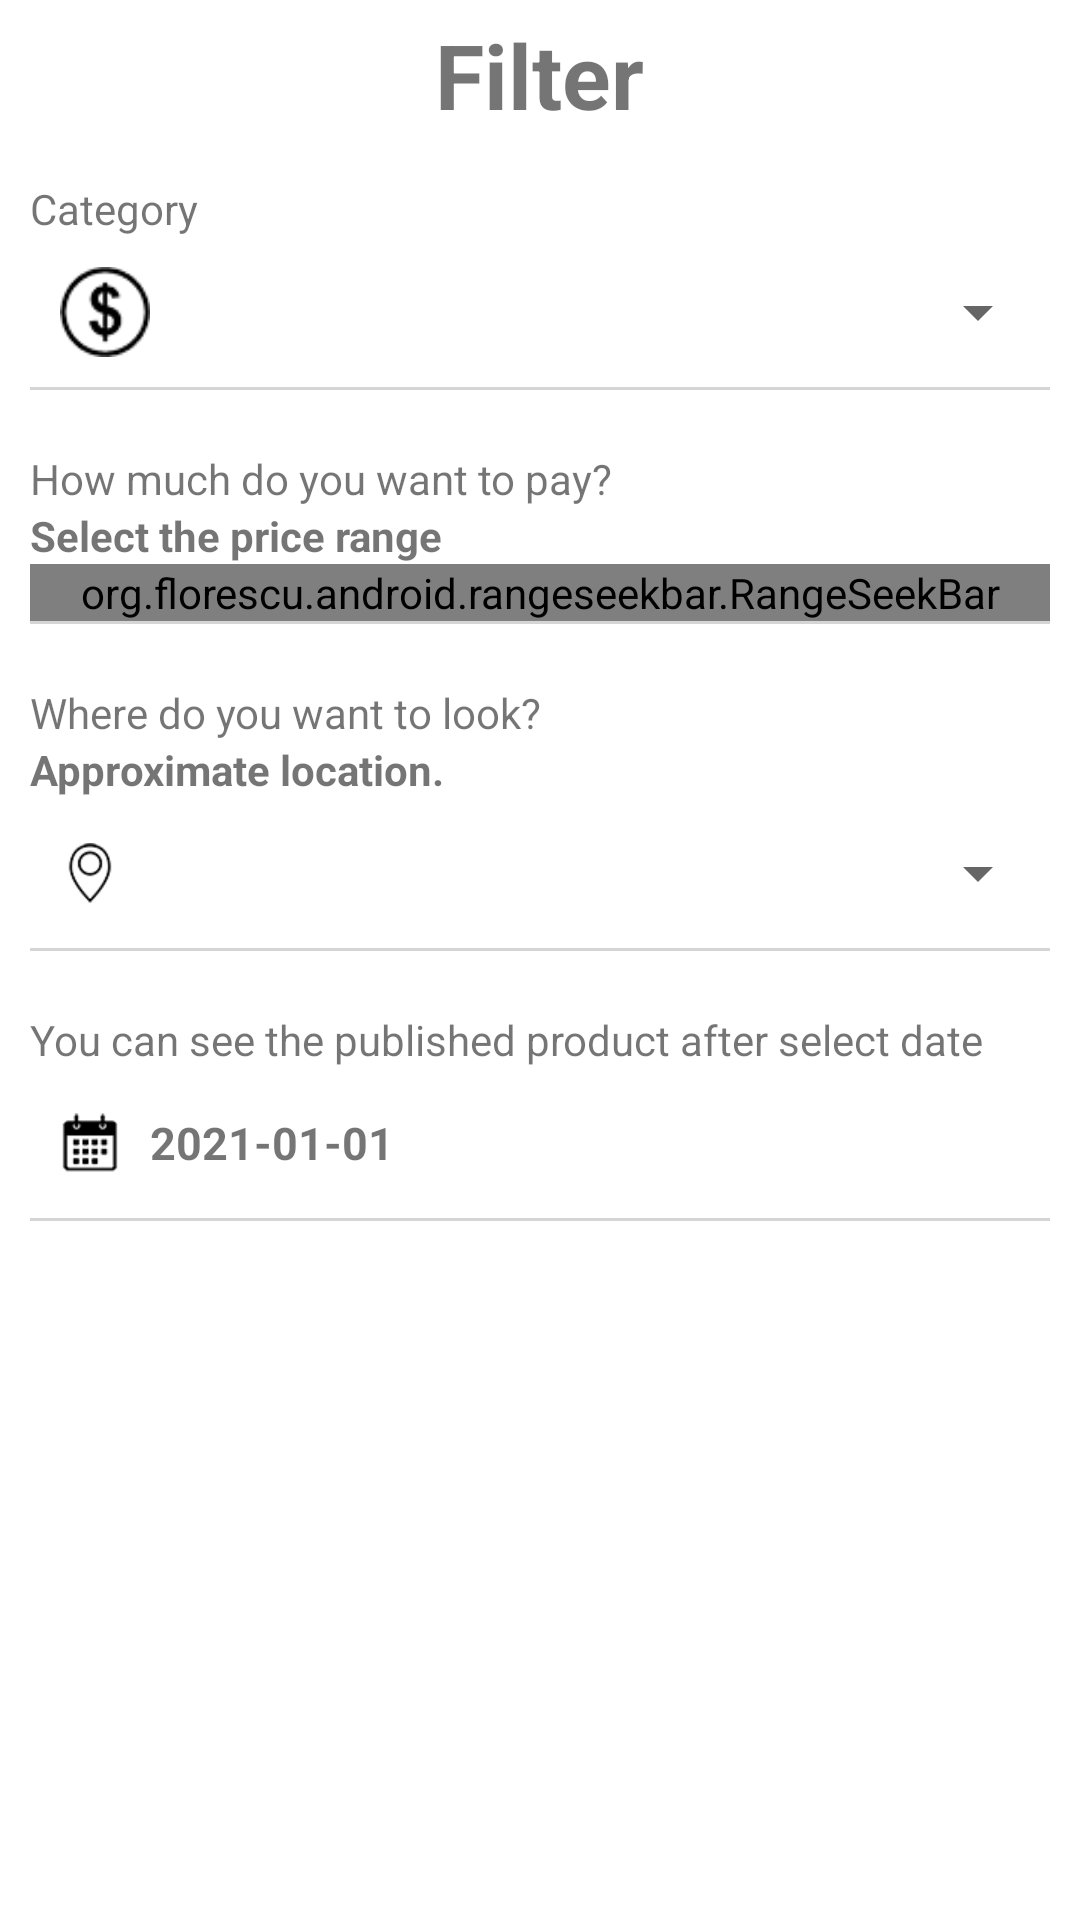

Point at icon controls on the screen. Image size 1080px x 1920px, points as (x,y).
calendar: (90,1142)
money: (105,312)
